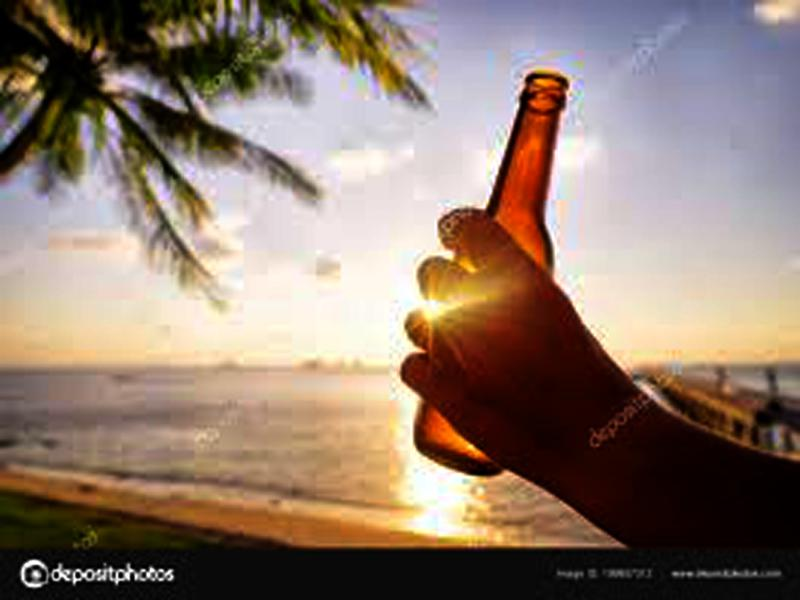Beer: (417, 72, 572, 478)
